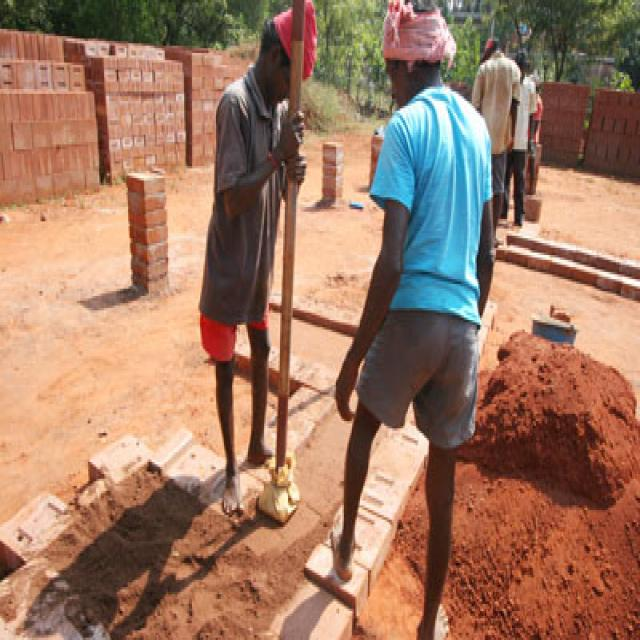no_boots: (222, 457, 244, 517), (333, 524, 355, 581), (420, 602, 450, 640), (250, 434, 276, 470)
no_gloves: (334, 360, 360, 419), (283, 113, 305, 159), (287, 147, 305, 189)
no_vest: (371, 89, 495, 322), (201, 84, 294, 321)
person: (330, 0, 498, 640), (197, 0, 321, 521)
